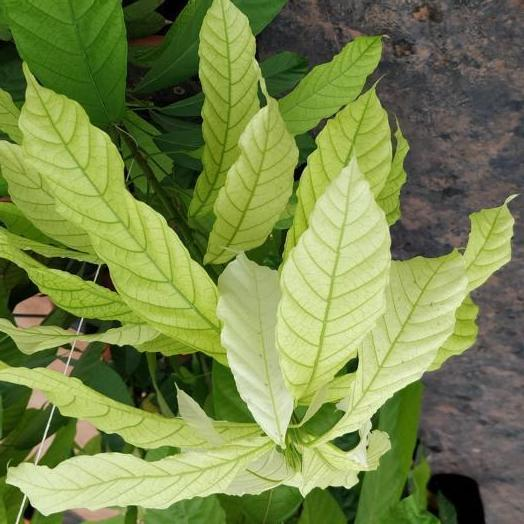Iron: (20, 65, 224, 362), (276, 160, 390, 400), (204, 80, 297, 263), (189, 0, 258, 228), (217, 253, 293, 447), (0, 142, 92, 253), (17, 261, 141, 322)
